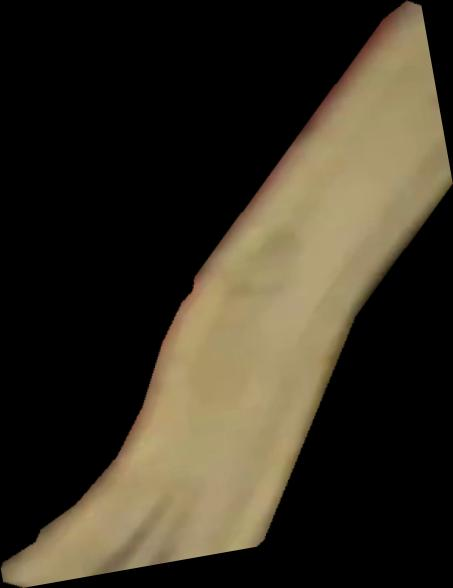backward: (1, 1, 453, 588)
